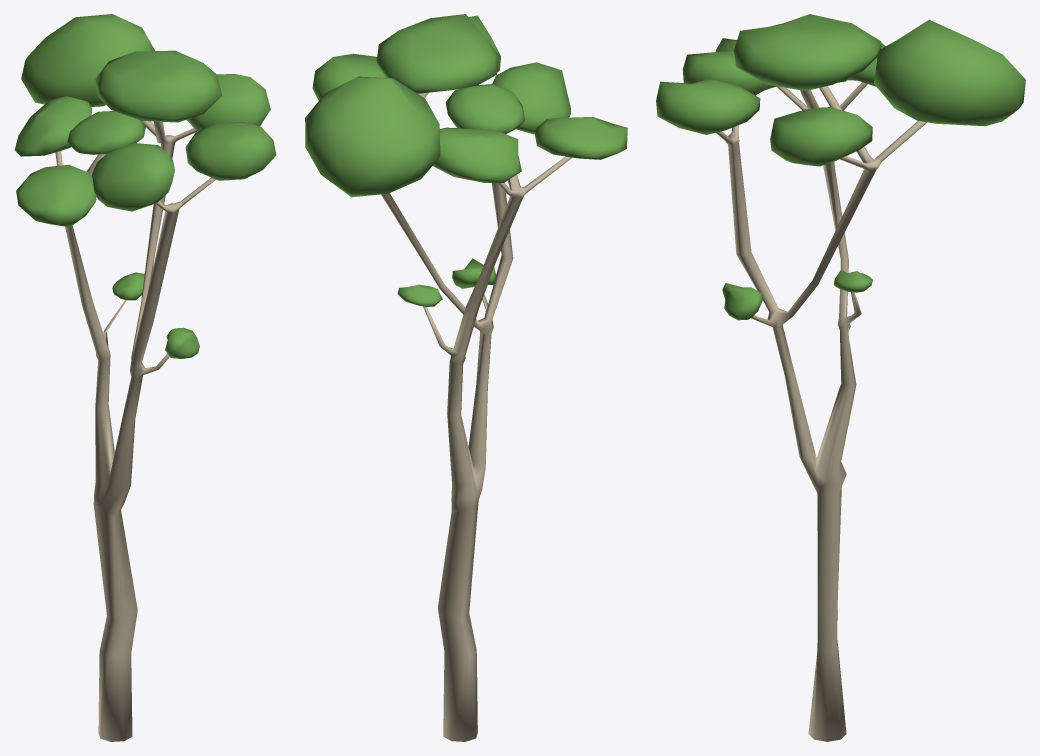
The model's file is Vegetacao-Arvore-Tipo-01-03.fbx.
The picture shows the model from 3 angles, left to right: view 1: azimuth 30°, elevation 25°; view 2: azimuth 150°, elevation 25°; view 3: azimuth 270°, elevation 25°; orthographic projection. The views are drawn at different scales.
Visible parts, largest first — view 1: Vegetacao-Arvore-Tipo-01-03; view 2: Vegetacao-Arvore-Tipo-01-03; view 3: Vegetacao-Arvore-Tipo-01-03.
Boxes of the visible parts, x1,y1,x2,y2 form: Vegetacao-Arvore-Tipo-01-03: (14,14,276,741); Vegetacao-Arvore-Tipo-01-03: (305,14,627,741); Vegetacao-Arvore-Tipo-01-03: (656,14,1025,741).
Bounding box in the file's own units: 118 × 281 × 130.
